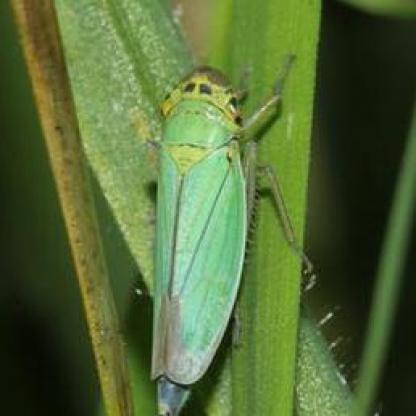Green-Leafhopper: (122, 50, 316, 416)
